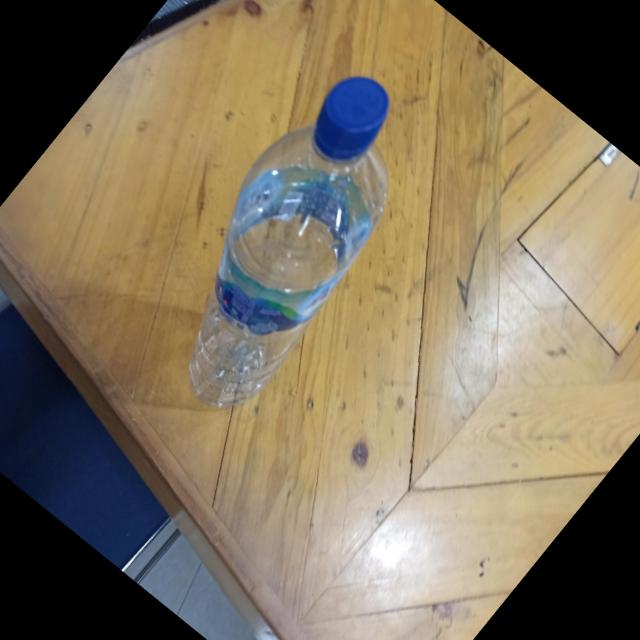BotolPlastik: (116, 52, 461, 428)
